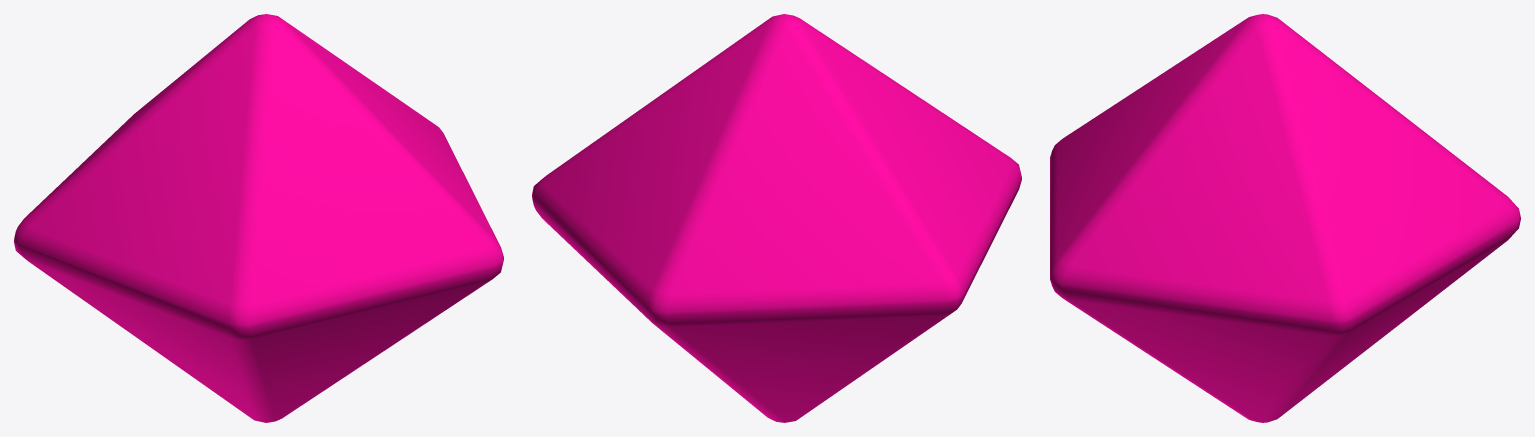
The model's file is 10die.fbx.
The picture shows the model from 3 angles, left to right: view 1: azimuth 30°, elevation 25°; view 2: azimuth 150°, elevation 25°; view 3: azimuth 270°, elevation 25°; orthographic projection.
Parts seen in each view (by area): view 1: Sphere; view 2: Sphere; view 3: Sphere.
Part boxes in pixels (left/top/right/bottom): Sphere: left=14, top=14, right=503, bottom=422; Sphere: left=532, top=14, right=1021, bottom=422; Sphere: left=1050, top=14, right=1520, bottom=422.
Bounding box in the file's own units: 162 × 149 × 155.
